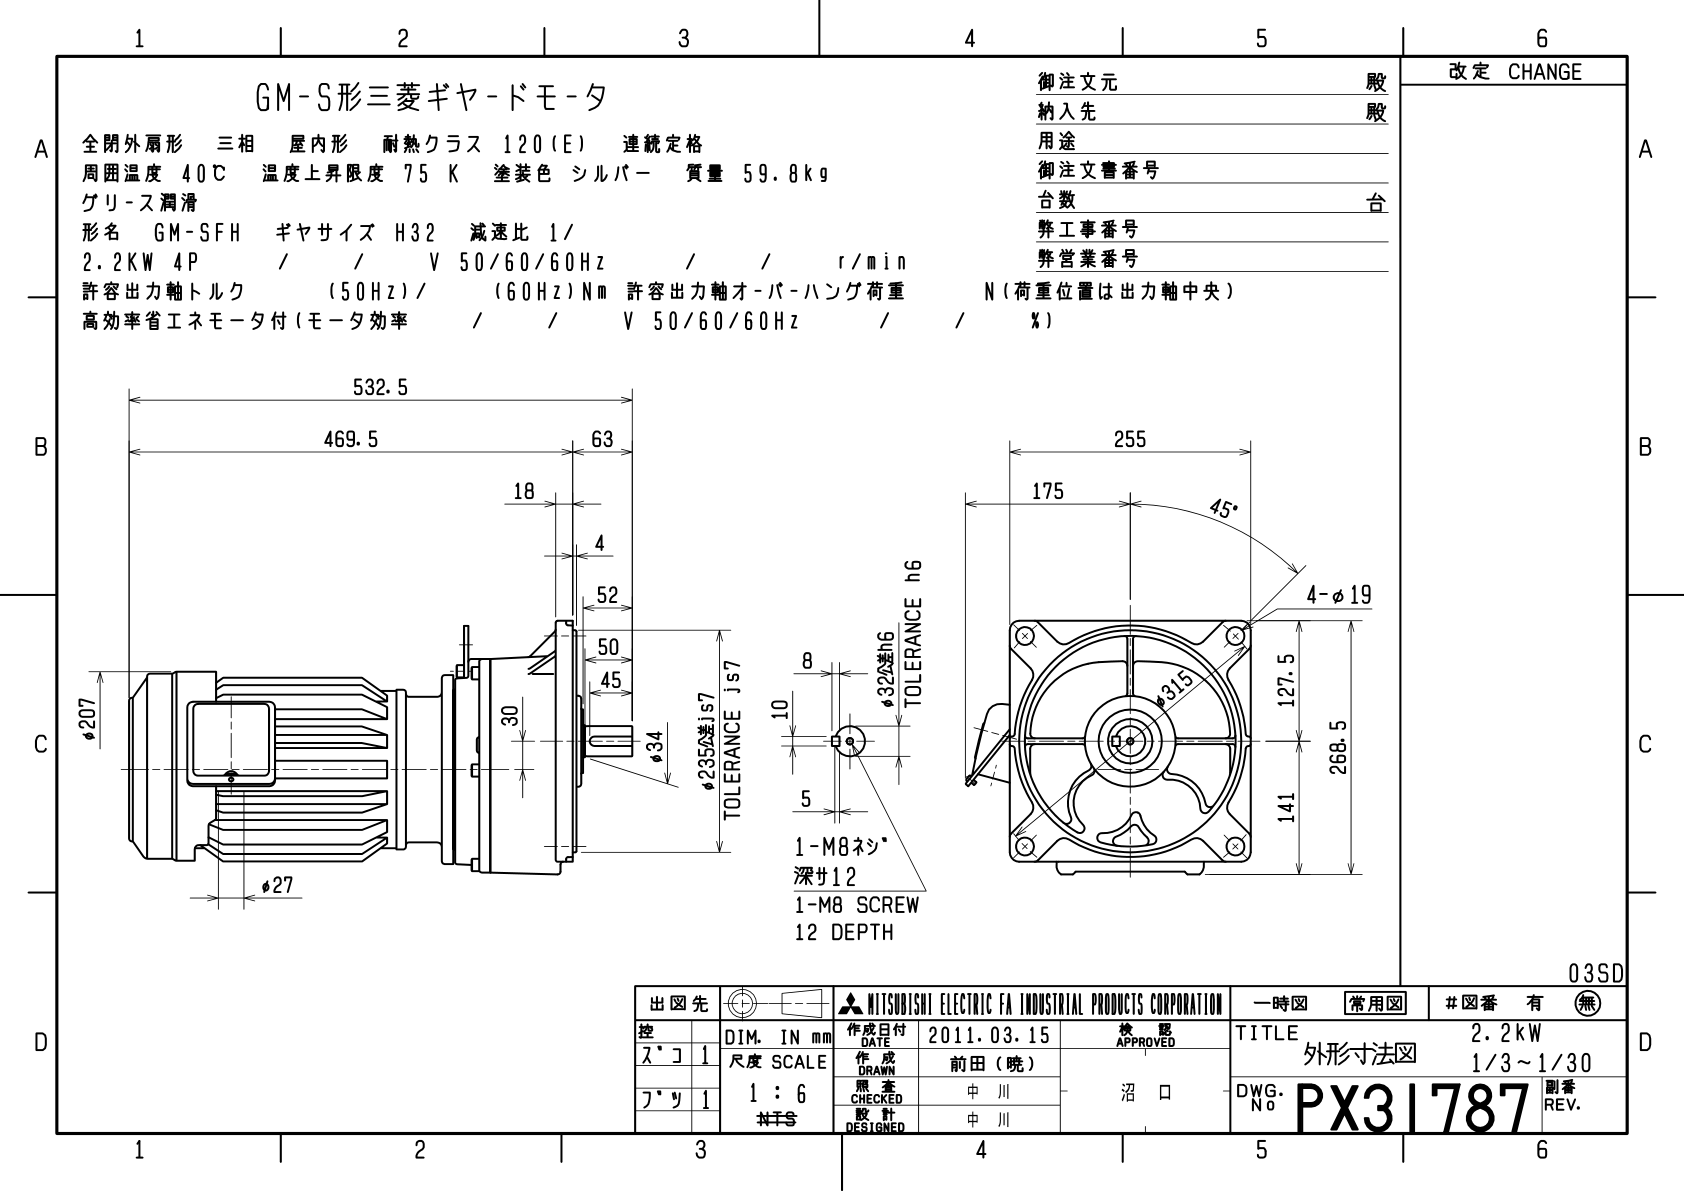GM_S_高効率屋内＿三相_フランジ: (73, 354, 1385, 941)
